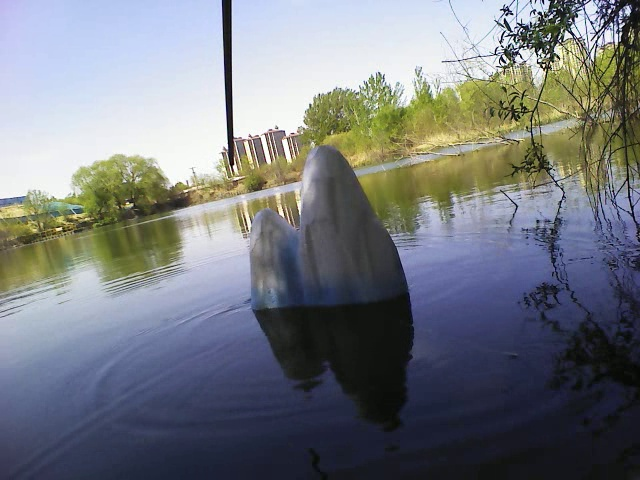iceberg: (242, 143, 413, 311)
